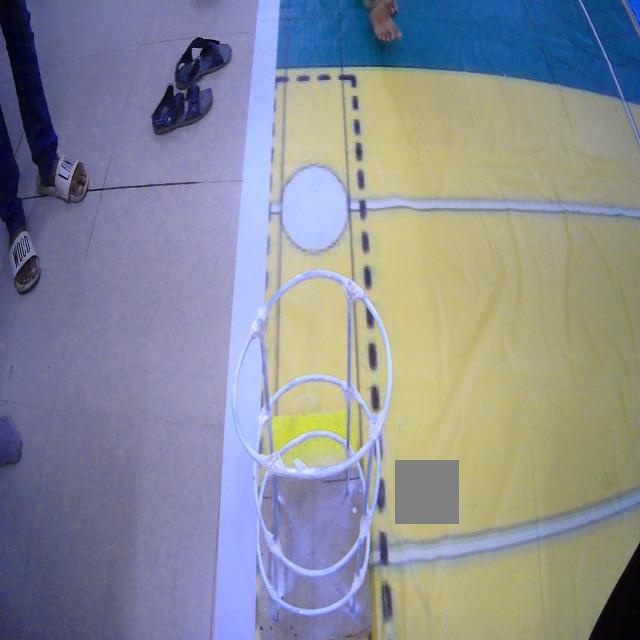silo: (224, 253, 395, 640)
